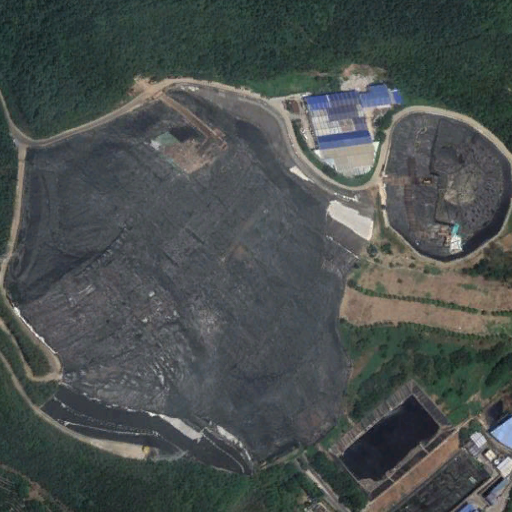lf: (8, 82, 376, 468), (382, 110, 512, 262)
